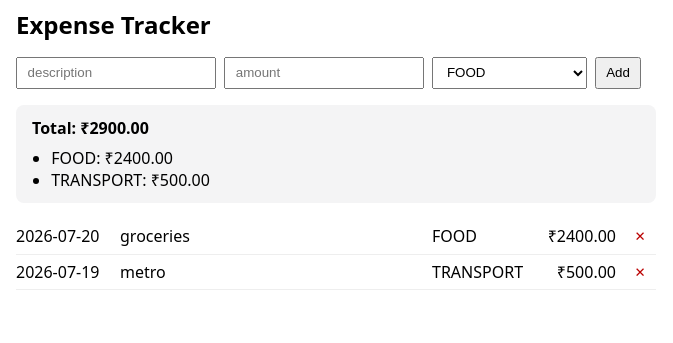
Scenario: Expense Tracker app › adds an expense through the form and updates the total
The image size is (673, 343).
expect the text "groceries" is shown: met, box [120,225,190,247]
Step 1. Type "coffee" into the field labelled "description" → (116, 73), box [16,57,216,89]
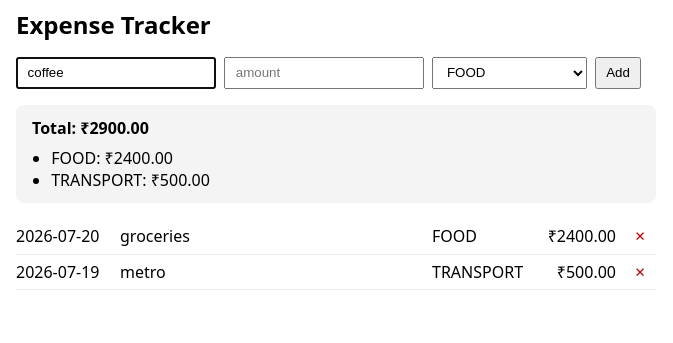
Step 2. Type "150" into the number field labelled "amount" → (324, 73), box [224,57,424,89]
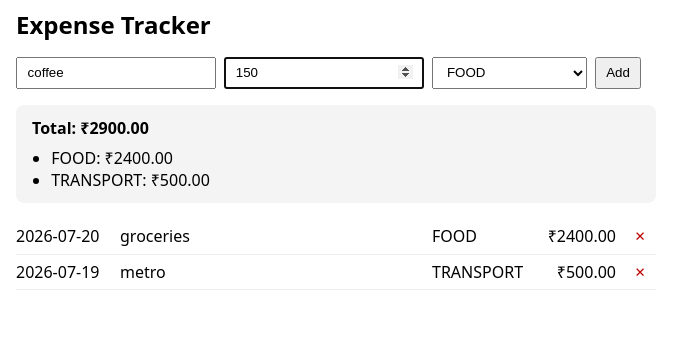
Step 3. Click the button "Add" → (618, 73), box [595,57,642,89]
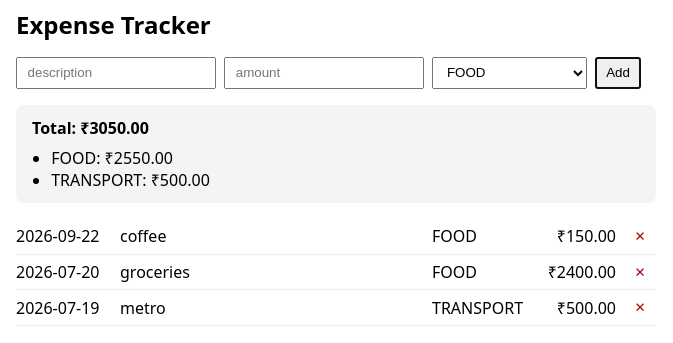
expect the text "coffee" is shown: met, box [120,225,166,247]
expect the text "Total: ₹3050.00" is shown: met, box [32,117,149,139]
